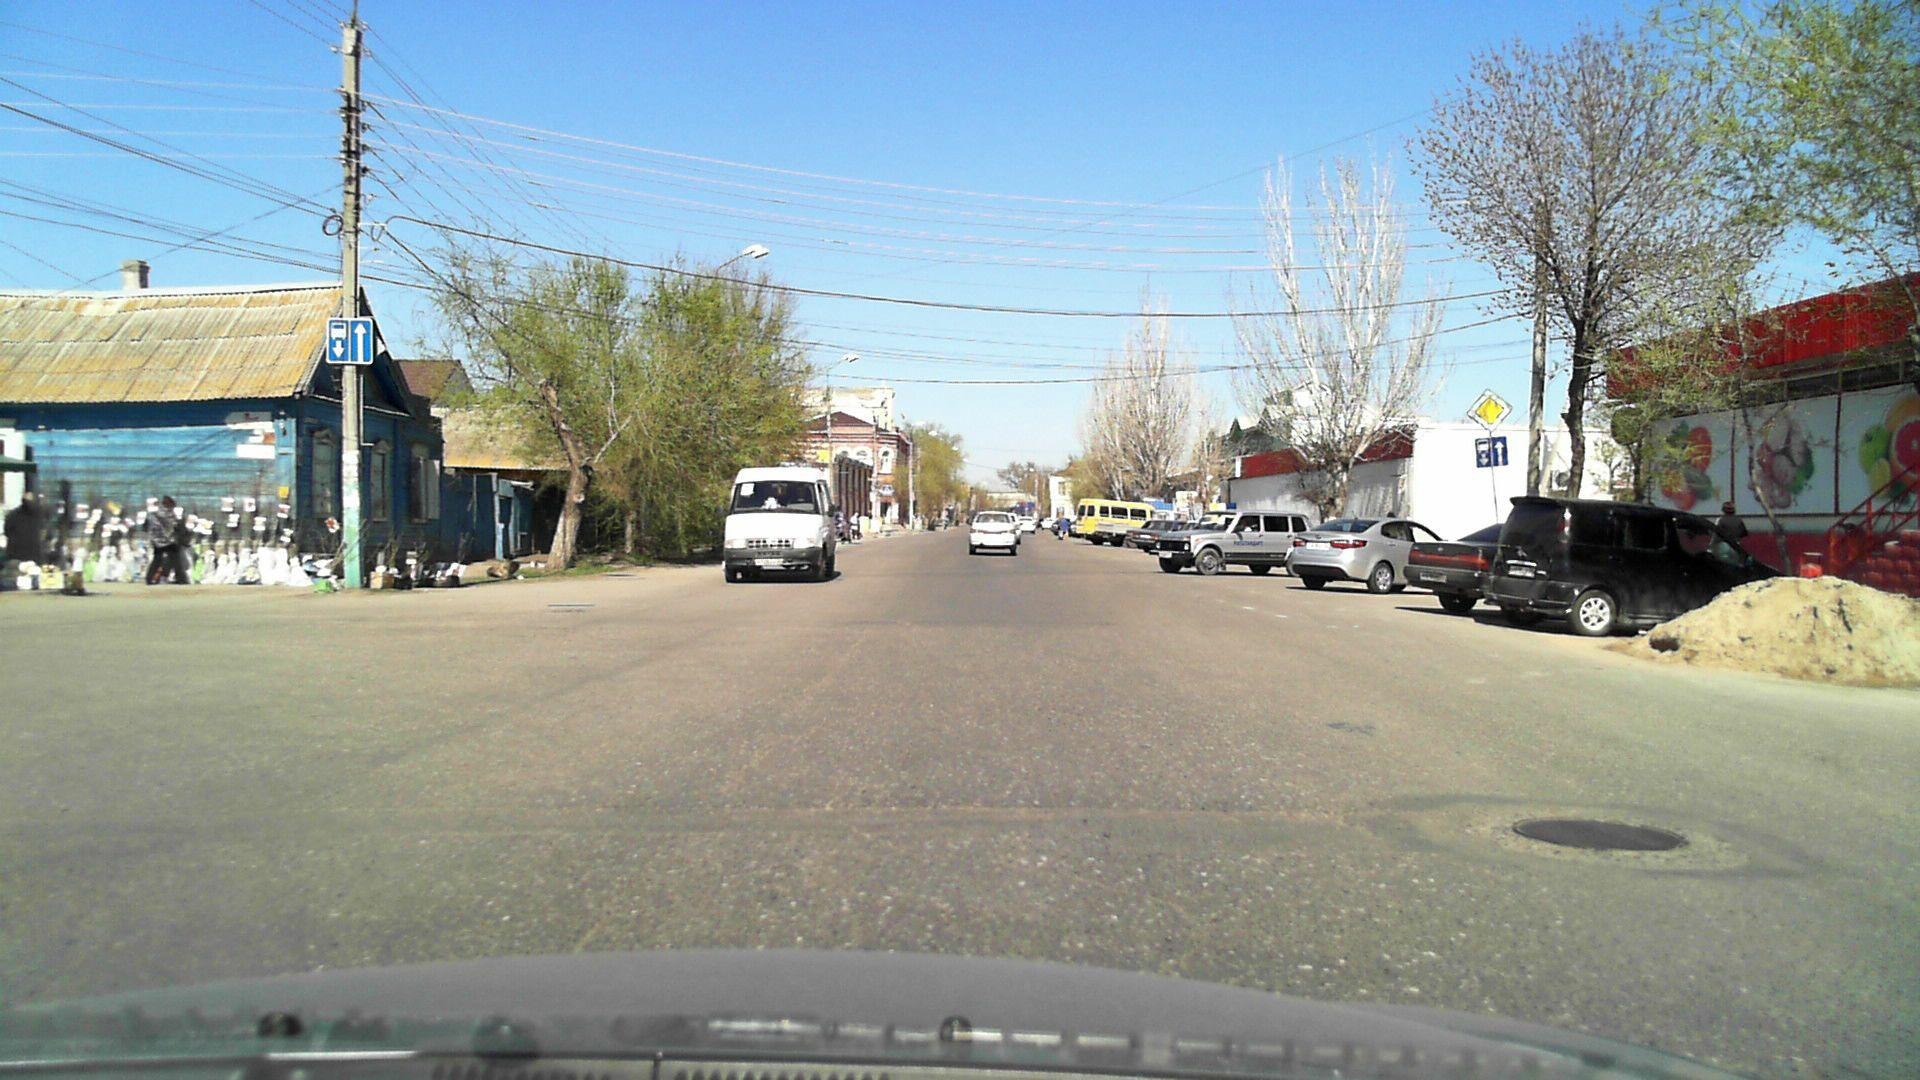2_1: (1464, 388, 1511, 431)
5_11_1: (324, 315, 371, 365), (1472, 436, 1509, 469)
